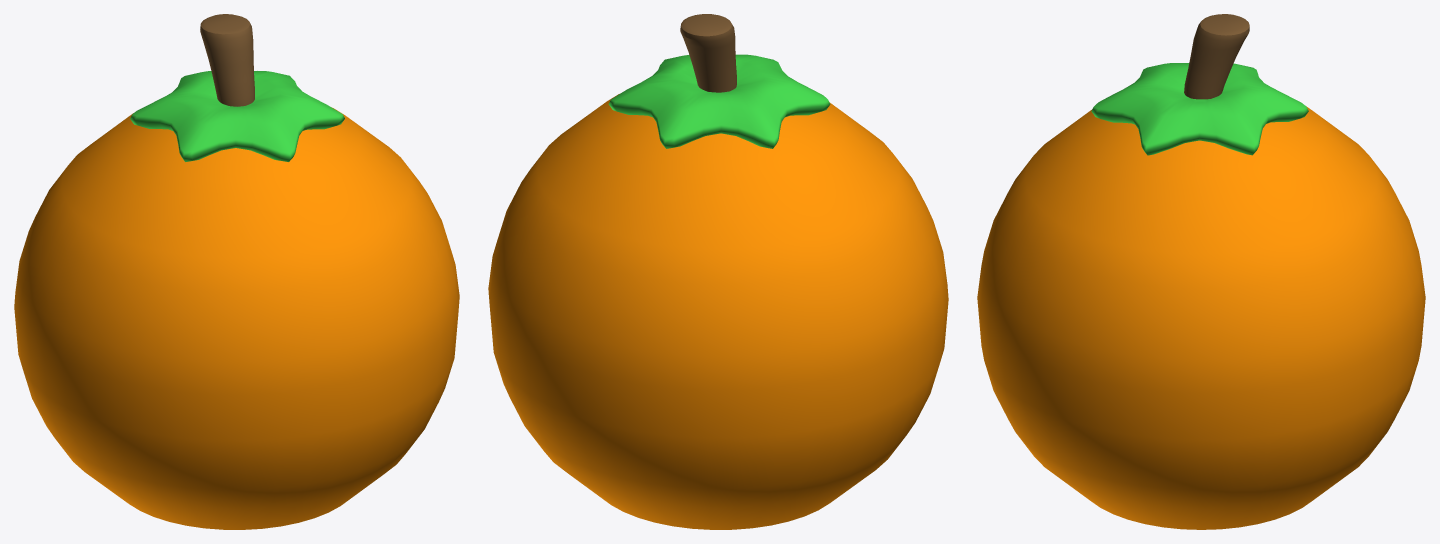
File: juzi.fbx
3 views of the same model, side by side, from view 1: azimuth 30°, elevation 25°; view 2: azimuth 150°, elevation 25°; view 3: azimuth 270°, elevation 25° (orthographic). The views are drawn at different scales.
Parts seen in each view (by area): view 1: pSphere1, pSphere14, pCylinder50; view 2: pSphere1, pSphere14, pCylinder50; view 3: pSphere1, pSphere14, pCylinder50.
Part boxes in pixels (<box>): pSphere1: <box>14,107,459,529</box>; pSphere14: <box>130,71,344,161</box>; pCylinder50: <box>200,14,254,106</box>; pSphere1: <box>488,94,948,529</box>; pSphere14: <box>608,54,830,148</box>; pCylinder50: <box>680,14,736,92</box>; pSphere1: <box>977,106,1425,529</box>; pSphere14: <box>1091,63,1308,155</box>; pCylinder50: <box>1184,14,1249,99</box>.
Bounding box in the file's own units: 1.3 × 1.28 × 1.54.
